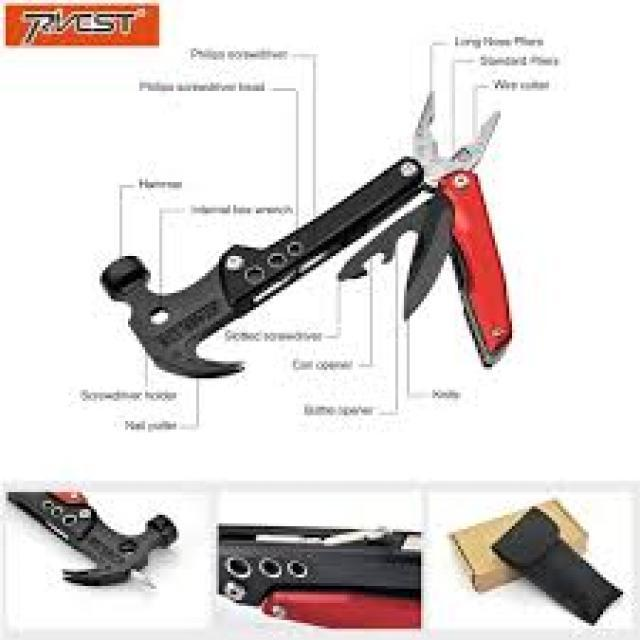hammer: (97, 152, 425, 382), (26, 489, 192, 606)
pliers: (402, 85, 504, 278)
